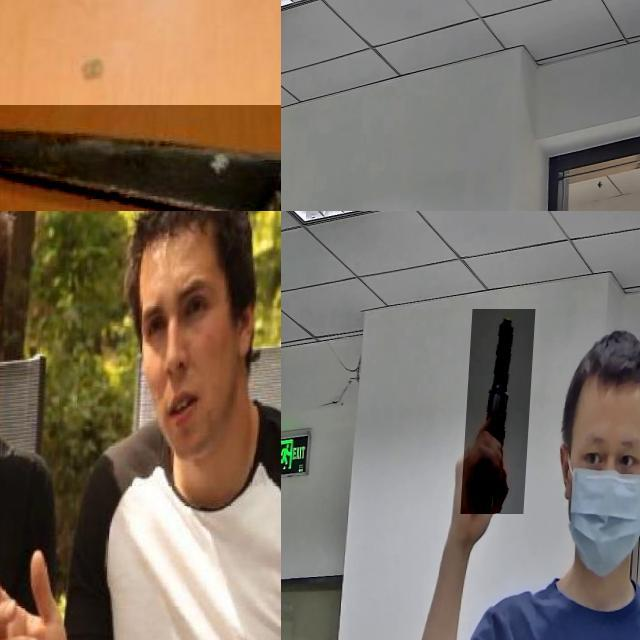-: (0, 105, 281, 211)
gun-knife-thesis - v11 Yolov5 augmented: (466, 309, 538, 514)
